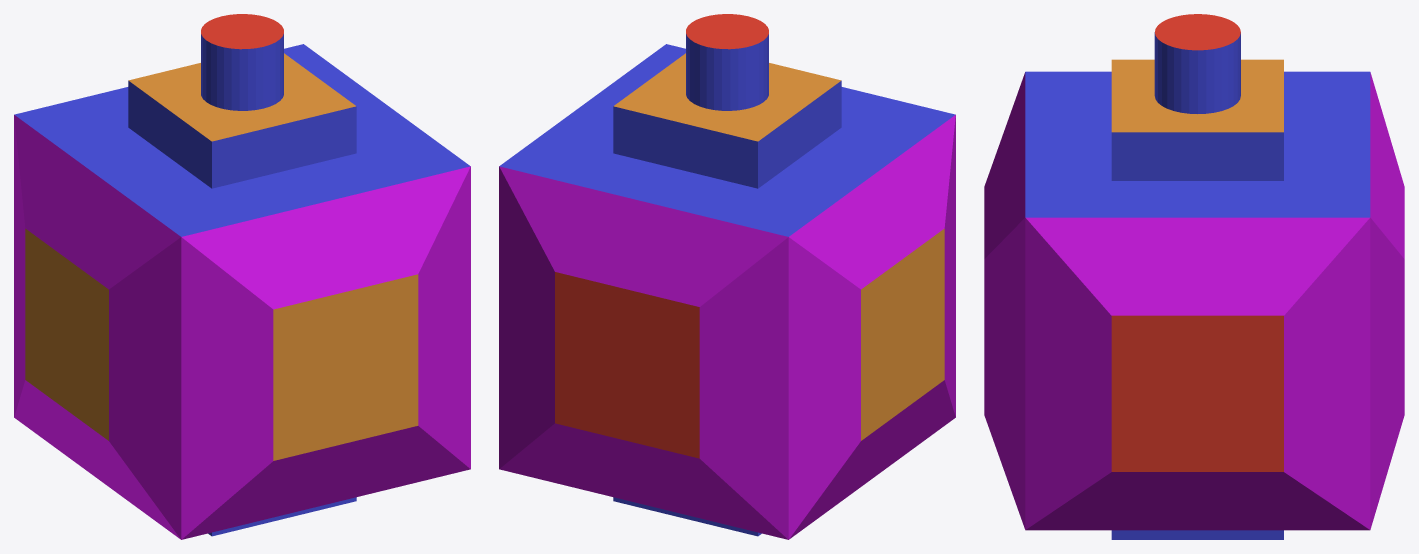
3 views of the same model, side by side, from view 1: azimuth 30°, elevation 25°; view 2: azimuth 150°, elevation 25°; view 3: azimuth 270°, elevation 25° (orthographic). The views are drawn at different scales.
Visible parts, largest first — view 1: Cylinder; view 2: Cylinder; view 3: Cylinder.
Part boxes in pixels (left/top/right/bottom): Cylinder: left=14, top=14, right=470, bottom=539; Cylinder: left=499, top=14, right=955, bottom=539; Cylinder: left=984, top=14, right=1404, bottom=539.
Size of the model in its own units: 249 by 301 by 243.
